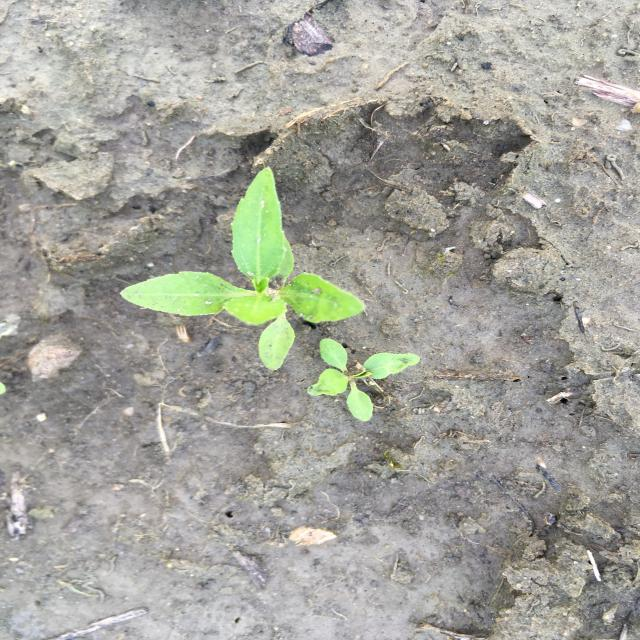Eclipta: (118, 164, 369, 372), (306, 337, 423, 423)
